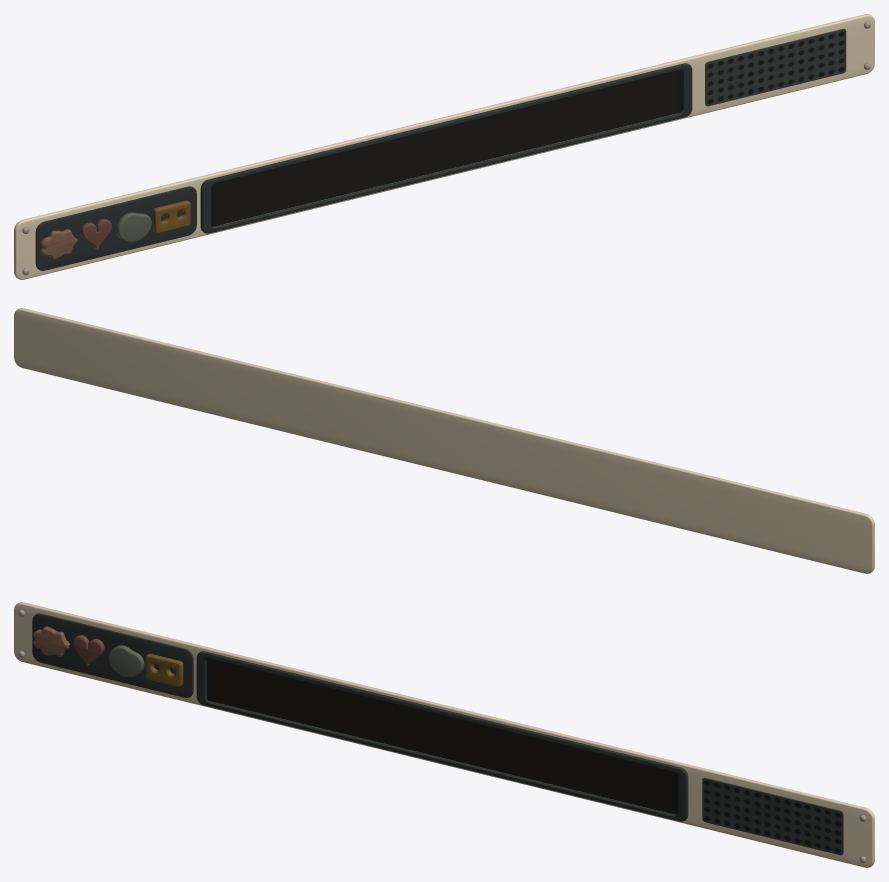
The model's file is intercom.glb.
The picture shows the model from 3 angles, top to bottom: view 1: azimuth 30°, elevation 25°; view 2: azimuth 150°, elevation 25°; view 3: azimuth 330°, elevation 25°; orthographic projection.
Visible parts, largest first — view 1: Display, Faceplate, DisplayBezel, Grille, LampPlate, Glass, Gary, Stomach, Brain, Heart; view 2: Faceplate; view 3: Display, Faceplate, DisplayBezel, Grille, LampPlate, Glass, Gary, Stomach, Brain, Heart.
Part boxes in pixels (x1,y1,x2,y2): Display: (215, 72, 677, 225); Faceplate: (14, 14, 874, 279); DisplayBezel: (200, 63, 692, 233); Grille: (705, 28, 846, 106); LampPlate: (35, 186, 196, 270); Glass: (211, 70, 681, 226); Gary: (153, 200, 190, 233); Stomach: (116, 212, 151, 242); Brain: (40, 229, 77, 259); Heart: (80, 218, 111, 249); Faceplate: (14, 308, 874, 573); Display: (211, 660, 673, 813); Faceplate: (14, 602, 874, 867); DisplayBezel: (196, 651, 688, 821); Grille: (702, 777, 843, 855); LampPlate: (32, 613, 193, 697); Glass: (207, 658, 677, 814); Gary: (145, 653, 183, 686); Stomach: (109, 645, 144, 676); Brain: (33, 626, 70, 656); Heart: (73, 635, 104, 666).
Bounding box in the file's own units: 1.22 × 0.08 × 0.016.
Materials: 11 (1 with a texture image).
